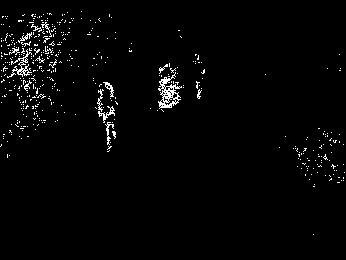person: (96, 80, 121, 154), (191, 53, 206, 101)
